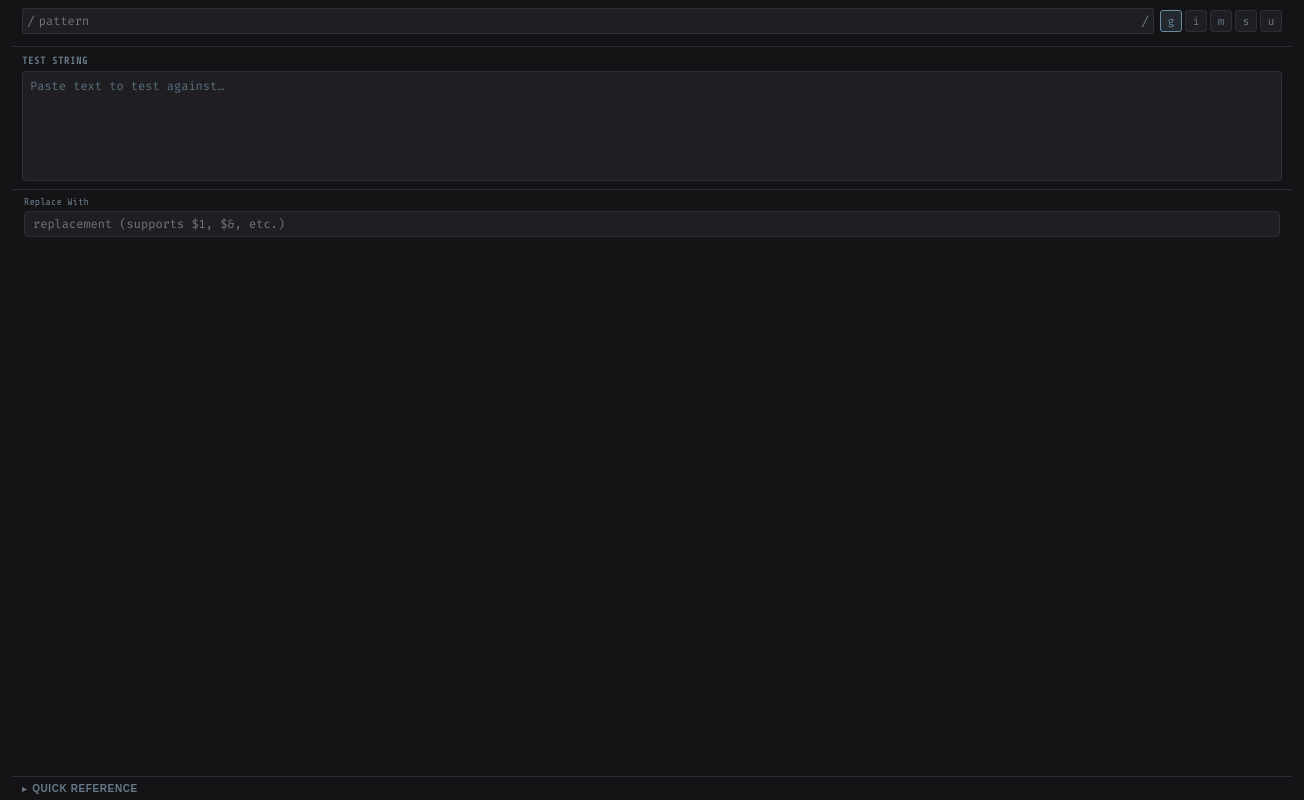
Test: RegexPanel › shows "1 match" in singular form
Type "hello" into the field labelled "pattern".
click(588, 21); type("hello")  # box [39,9,1137,33]
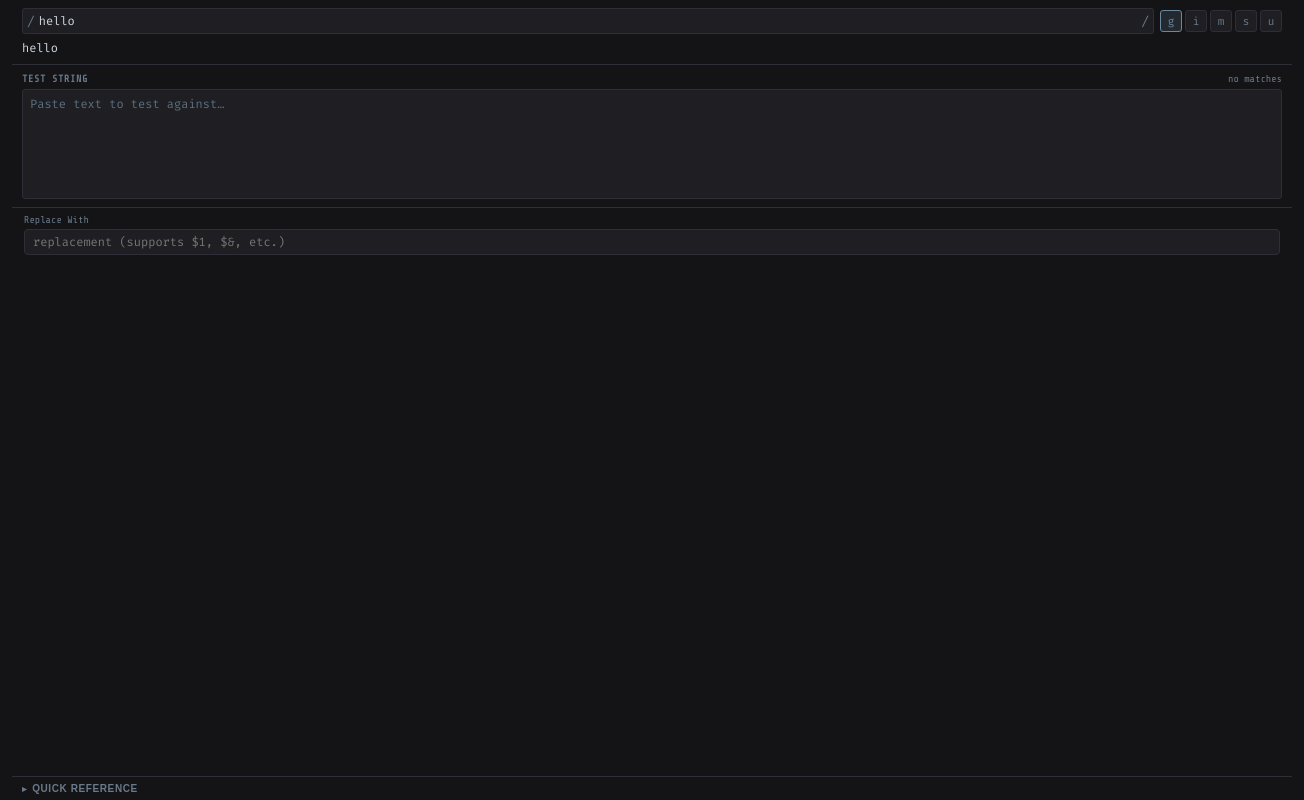
Type "say hello there" into the text box named "test string".
click(652, 144); type("say hello there")  # box [23,90,1281,198]
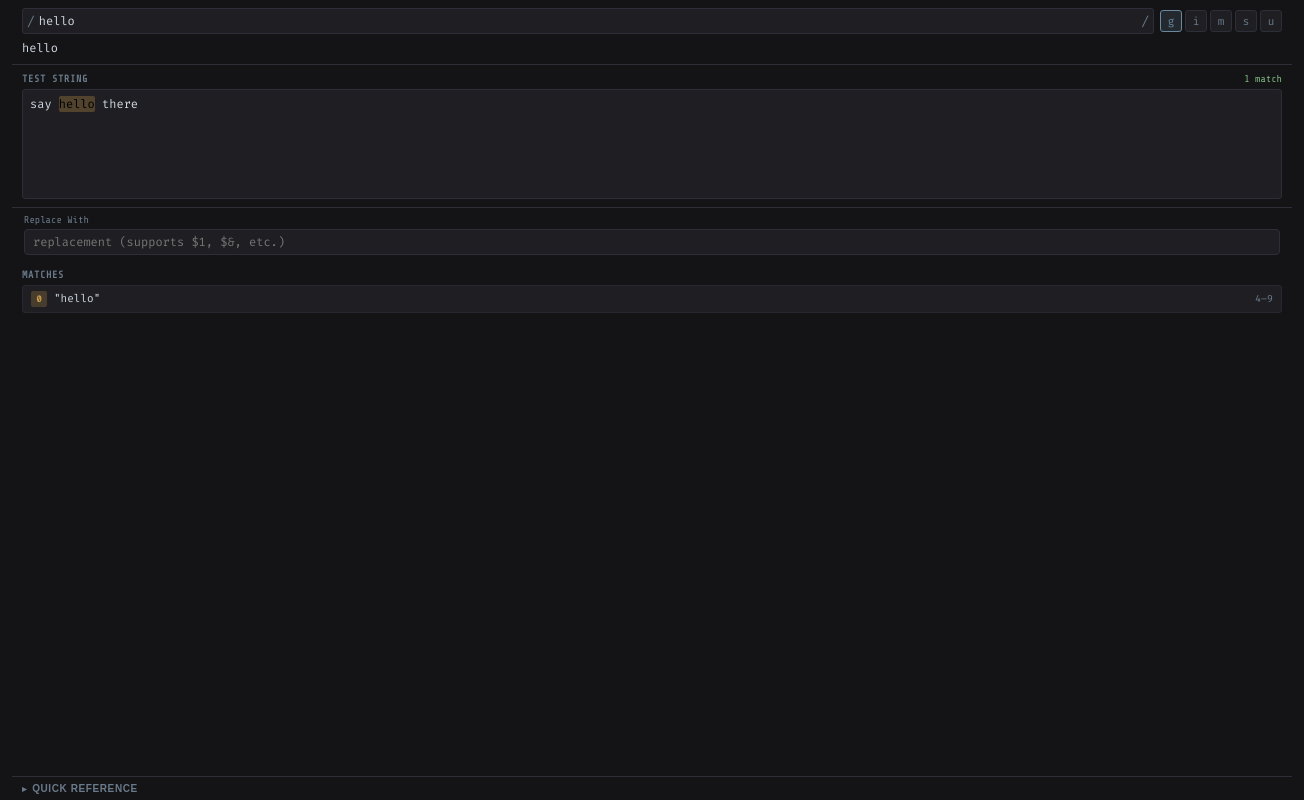
Expected: the text "1 match" is shown, [1244,73,1282,84]
